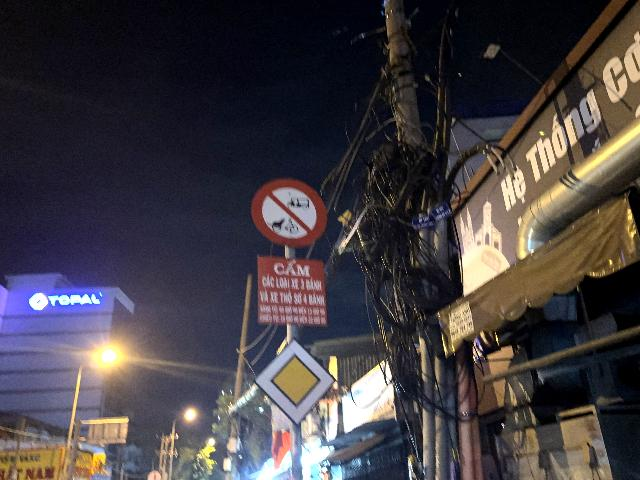bat-dau-duong-uu-tien: (253, 337, 337, 427)
cam-xe-3-banh-xe-tho-so-4-banh: (252, 178, 327, 246)
